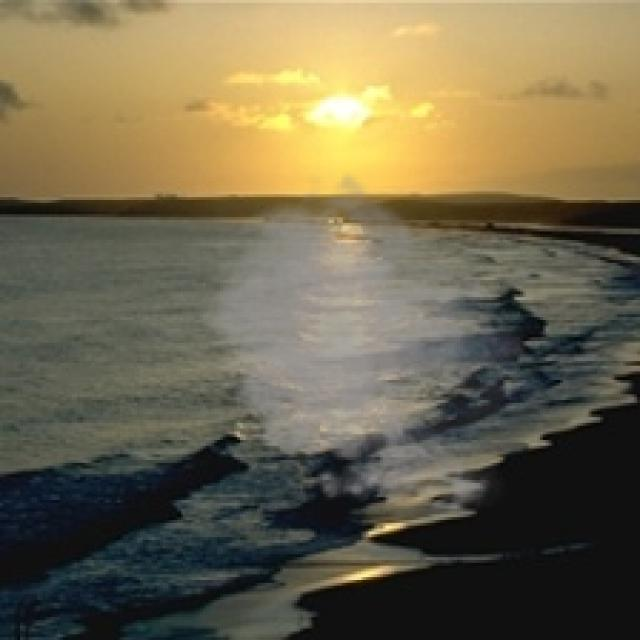Smoke: (188, 171, 548, 520)
